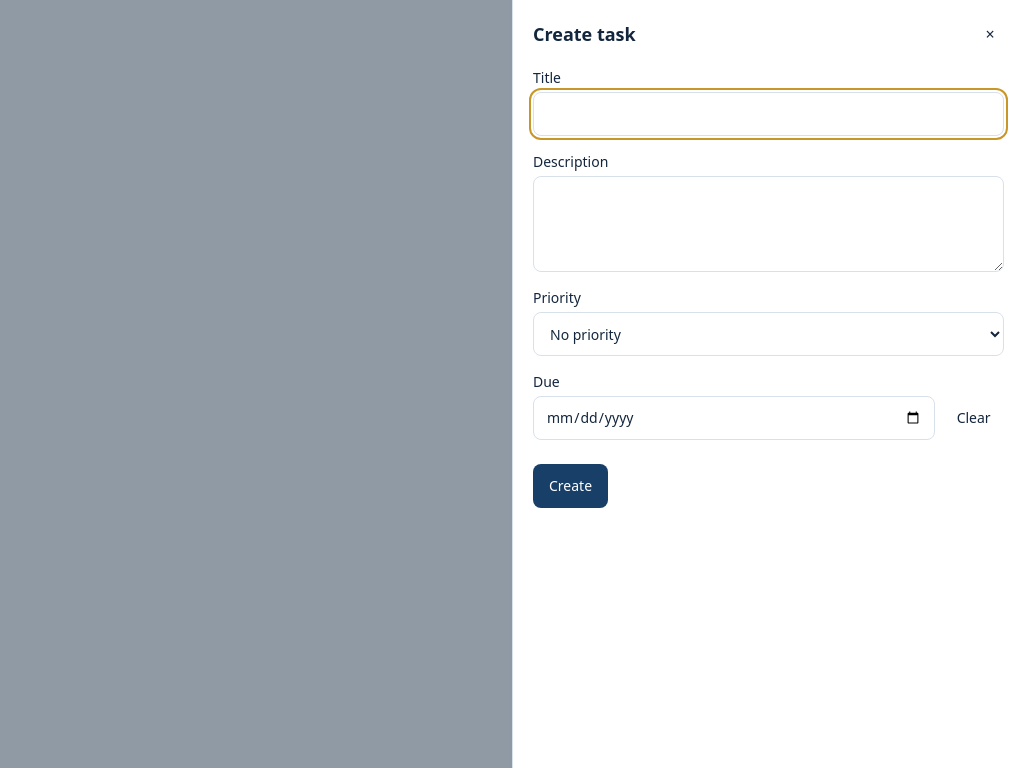
Test: TaskCreateSheet › publishes the confirmed create globally, naming the Task, then closes
Type "Coordinate the review" into the field labelled "Title".
click(768, 114); type("Coordinate the review")  # box [533, 92, 1004, 136]
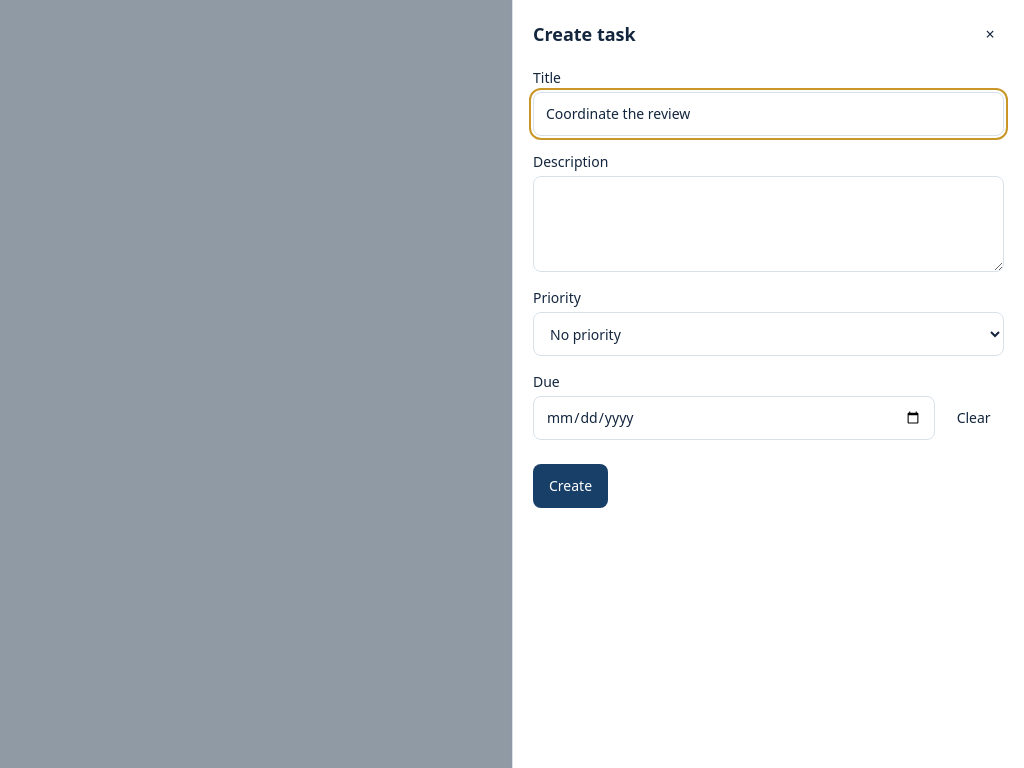
Click the button "Create".
click(571, 486)  # box [533, 464, 608, 508]
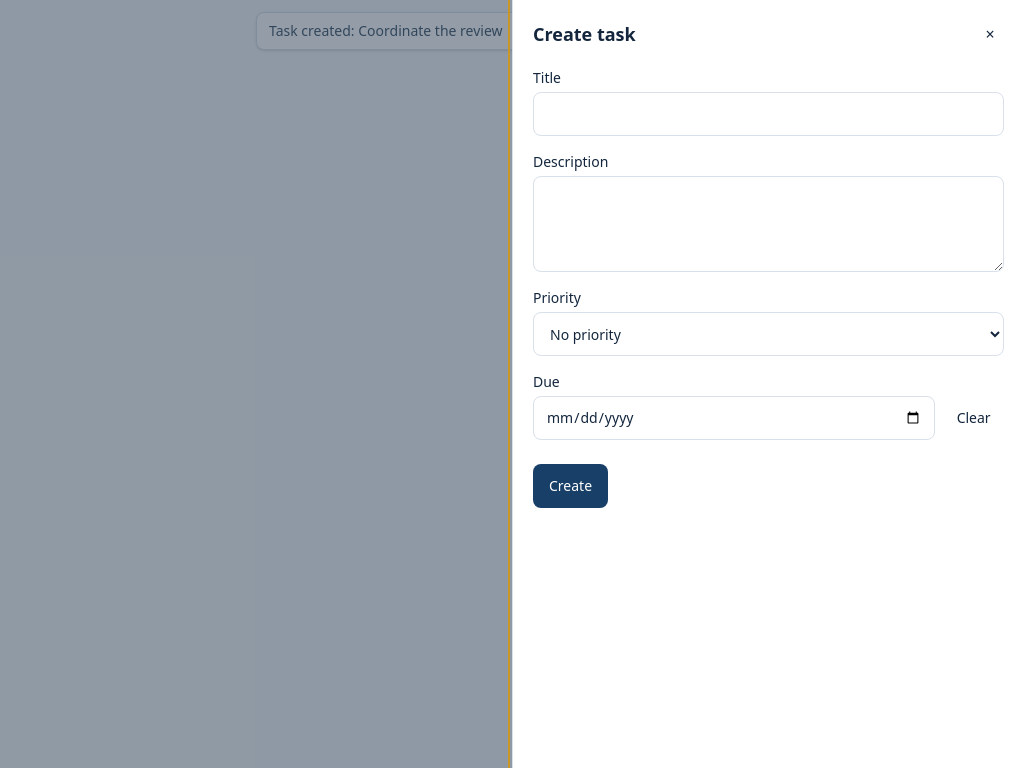
expect the element with test id "mutation-feedback-region" reads "Task created: Coordinate the review": met, box [269, 21, 503, 40]
